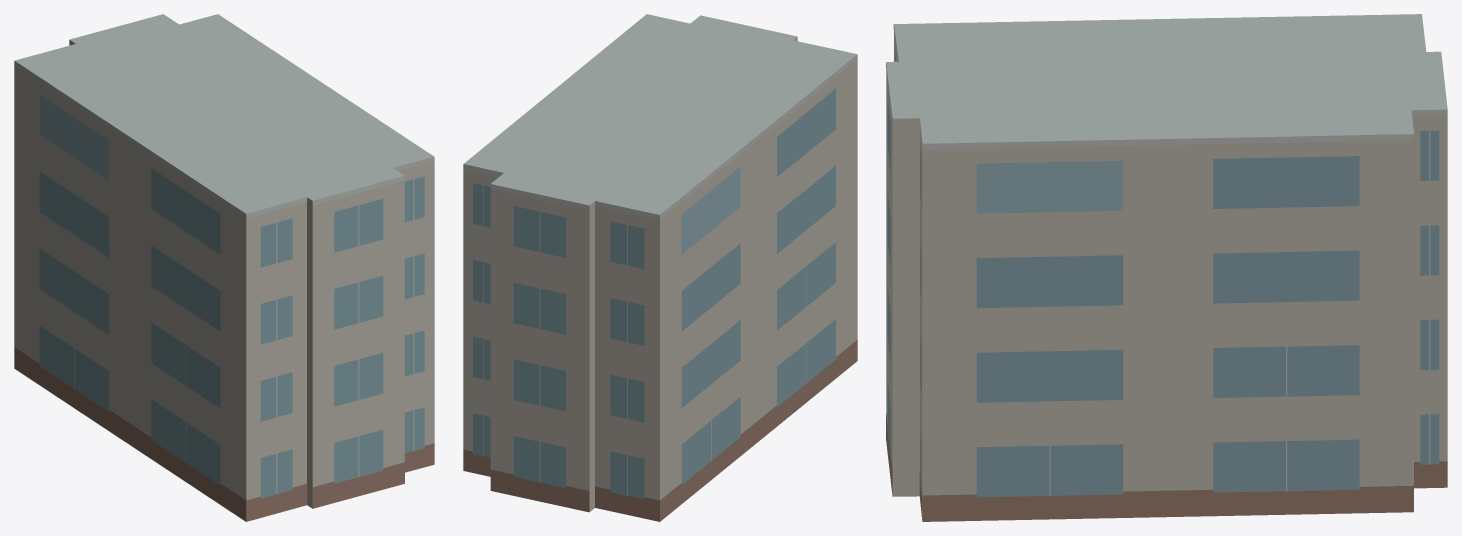
Rendered from survey-upis-32649950.glb.
The picture shows the model from 3 angles, left to right: view 1: azimuth 30°, elevation 25°; view 2: azimuth 150°, elevation 25°; view 3: azimuth 270°, elevation 25°; orthographic projection. The views are drawn at different scales.
Parts seen in each view (by area): view 1: survey-upis-32649950.tmp; view 2: survey-upis-32649950.tmp; view 3: survey-upis-32649950.tmp.
Boxes of the visible parts, bbox=[...] form: survey-upis-32649950.tmp: bbox=[14, 14, 434, 521]; survey-upis-32649950.tmp: bbox=[463, 14, 857, 521]; survey-upis-32649950.tmp: bbox=[886, 14, 1447, 521].
Size of the model in its own units: 11.46 by 15.55 by 20.94.
